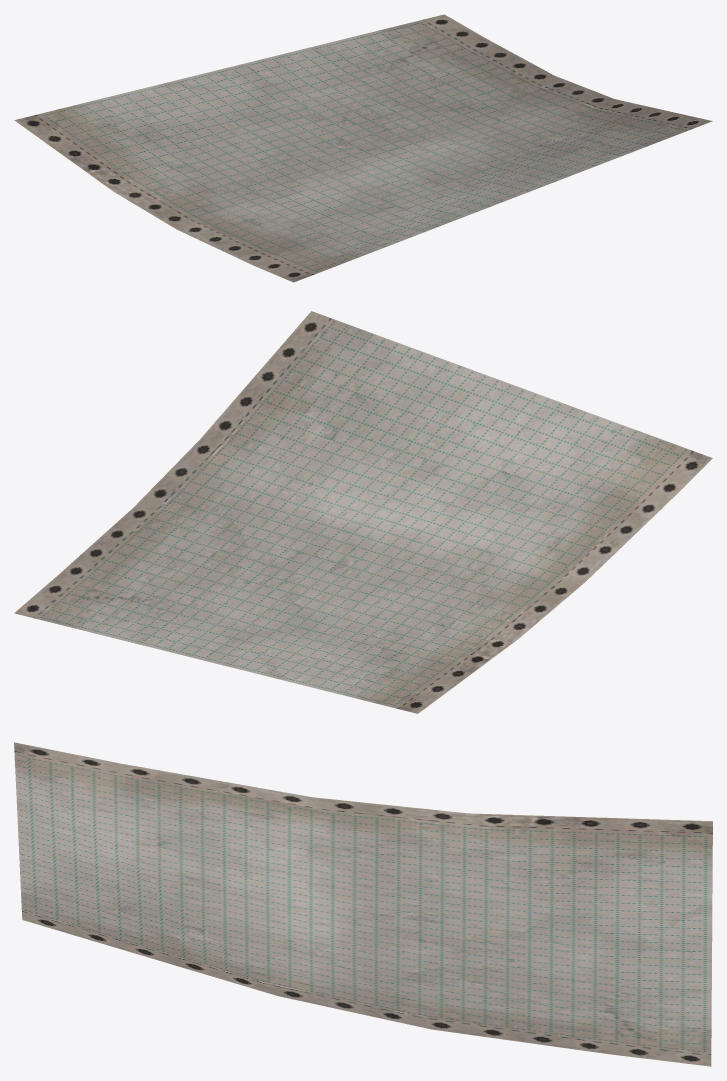
Rendered from papers_printed_graph.dae.
The picture shows the model from 3 angles, top to bottom: view 1: azimuth 30°, elevation 25°; view 2: azimuth 150°, elevation 25°; view 3: azimuth 270°, elevation 25°; orthographic projection. The views are drawn at different scales.
Visible parts, largest first — view 1: graph; view 2: graph; view 3: graph.
Part boxes in pixels (<box>): graph: <box>14,14,712,282</box>; graph: <box>14,311,712,713</box>; graph: <box>14,742,712,1066</box>.
Bounding box in the file's own units: 0.218 × 0.0534 × 0.2507.
